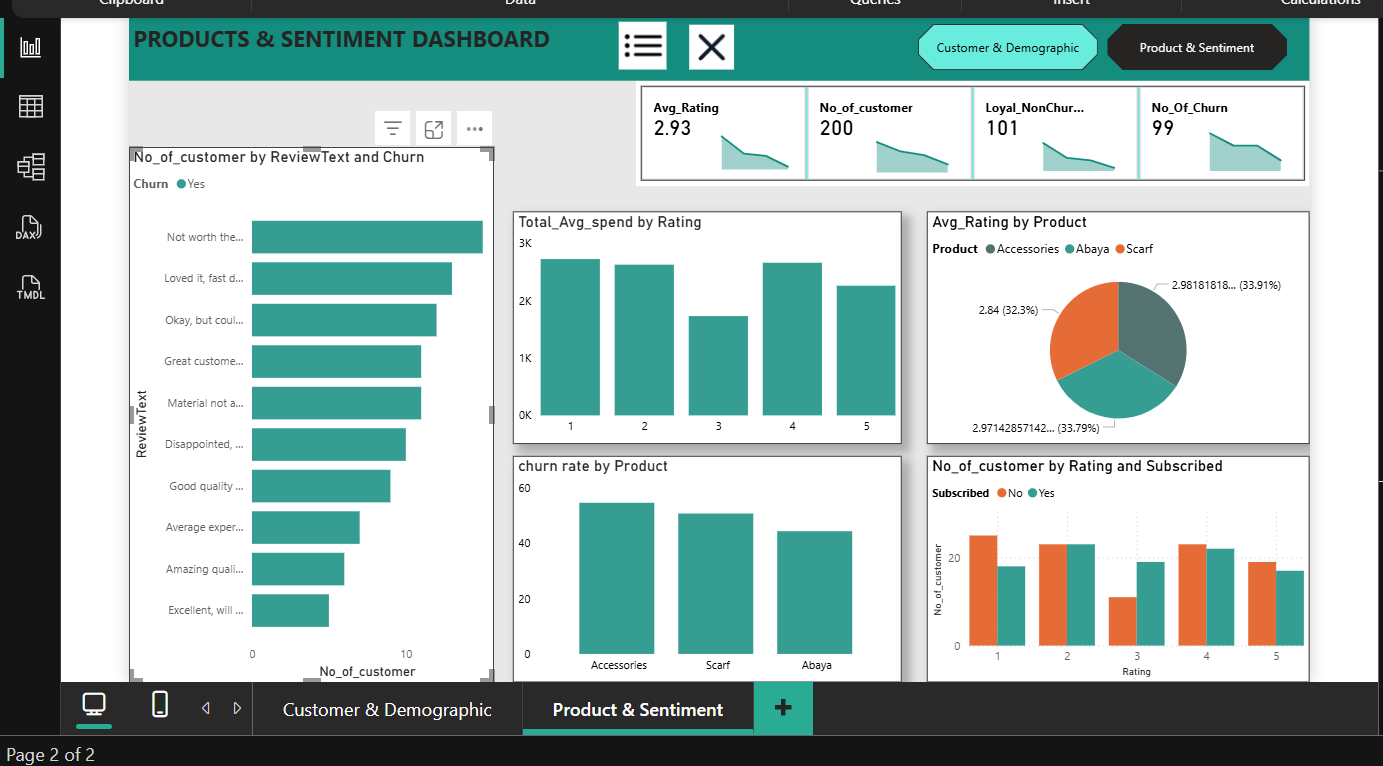

This screenshot's page, from the dashboard's own definition file:
{"tool":"powerbi","page":{"name":"Product & Sentiment","canvas":[1280,720],"ordinal":1},"visuals":[{"type":"clusteredBarChart","fields":{"Category":["|FT Customer seg.ReviewText"],"Y":["#Measures.No_of_customer"],"Series":["|FT Customer seg.Churn"]},"box":[0,139.9,395.3,580.7],"z":0},{"type":"clusteredColumnChart","fields":{"Category":["|FT Customer seg.Rating"],"Y":["#Measures.Total_Avg_spend"]},"box":[416.4,209.8,421.3,252.1],"z":1000},{"type":"pieChart","fields":{"Category":["Dim Product.Product"],"Y":["#Measures.Avg_Rating"]},"box":[865.3,209.8,414.8,252.1],"z":2000},{"type":"columnChart","fields":{"Y":["#Measures.churn rate"],"Category":["Dim Product.Product"]},"box":[416.4,475,421.3,245.6],"z":3000},{"type":"clusteredColumnChart","fields":{"Y":["#Measures.No_of_customer"],"Category":["|FT Customer seg.Rating"],"Series":["|FT Customer seg.Subscribed"]},"box":[865.3,475,414.8,245.6],"z":4000},{"type":"cardVisual","fields":{"Data":["#Measures.Avg_Rating","#Measures.No_of_customer","#Measures.Loyal_NonChurned","#Measures.No_Of_Churn"]},"box":[549.8,68.3,730.3,113.9],"z":5000},{"type":"areaChart","fields":{"Y":["#Measures.Avg_Rating"],"Category":["|FT Customer seg.Age Group"]},"box":[627.8,109,100.8,60.2],"z":6000},{"type":"areaChart","fields":{"Category":["|FT Customer seg.Age Group"],"Y":["#Measures.No_of_customer"]},"box":[795.4,112.2,107.4,60.2],"z":7000},{"type":"areaChart","fields":{"Category":["|FT Customer seg.Age Group"],"Y":["#Measures.Loyal_NonChurned"]},"box":[975.9,110.6,107.4,60.2],"z":8000},{"type":"areaChart","fields":{"Category":["|FT Customer seg.Age Group"],"Y":["#Measures.No_Of_Churn"]},"box":[1156.5,110.6,107.4,60.2],"z":9000},{"type":"textbox","box":[0,0,1280.1,68.3],"z":10000},{"type":"actionButton","box":[527.3,0,63.7,59.9],"z":12000},{"type":"actionButton","box":[603.4,3.3,60.2,56.9],"z":13000},{"type":"pageNavigator","box":[855.6,6.5,400.1,50.4],"z":14000}]}

Visuals, with their boxes on the page's 1280x720 design canvas (x1, y1, x2, y2). These are canvas units, not pixel positions in the 1383x766 screenshot, which may show the page scaled, cropped or inside an application window:
clusteredBarChart - |FT Customer seg.ReviewText x #Measures.No_of_customer: pyautogui.locateOnScreen(0, 140, 395, 721)
clusteredColumnChart - |FT Customer seg.Rating x #Measures.Total_Avg_spend: pyautogui.locateOnScreen(416, 210, 838, 462)
pieChart - Dim Product.Product x #Measures.Avg_Rating: pyautogui.locateOnScreen(865, 210, 1280, 462)
columnChart - #Measures.churn rate x Dim Product.Product: pyautogui.locateOnScreen(416, 475, 838, 721)
clusteredColumnChart - #Measures.No_of_customer x |FT Customer seg.Rating: pyautogui.locateOnScreen(865, 475, 1280, 721)
cardVisual - #Measures.Avg_Rating x #Measures.No_of_customer: pyautogui.locateOnScreen(550, 68, 1280, 182)
areaChart - #Measures.Avg_Rating x |FT Customer seg.Age Group: pyautogui.locateOnScreen(628, 109, 729, 169)
areaChart - |FT Customer seg.Age Group x #Measures.No_of_customer: pyautogui.locateOnScreen(795, 112, 903, 172)
areaChart - |FT Customer seg.Age Group x #Measures.Loyal_NonChurned: pyautogui.locateOnScreen(976, 111, 1083, 171)
areaChart - |FT Customer seg.Age Group x #Measures.No_Of_Churn: pyautogui.locateOnScreen(1156, 111, 1264, 171)
textbox: pyautogui.locateOnScreen(0, 0, 1280, 68)
actionButton: pyautogui.locateOnScreen(527, 0, 591, 60)
actionButton: pyautogui.locateOnScreen(603, 3, 664, 60)
pageNavigator: pyautogui.locateOnScreen(856, 6, 1256, 57)
